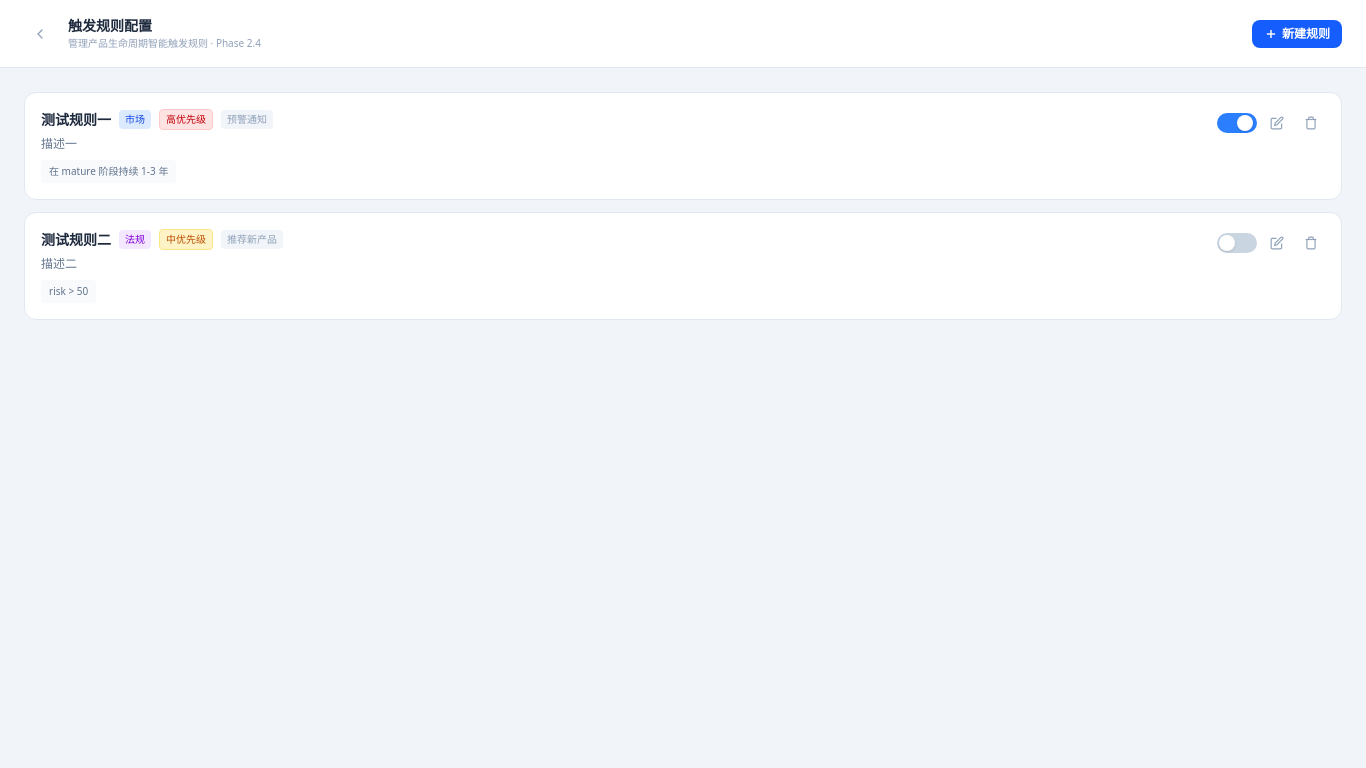
Test case: RuleConfigPanel › shows delete confirmation
Expected: the heading "测试规则一" is shown, [41, 110, 111, 130]
Click the button titled "删除规则" in the row of "预警通知" at coordinates (1311, 123), box [1297, 109, 1325, 137]
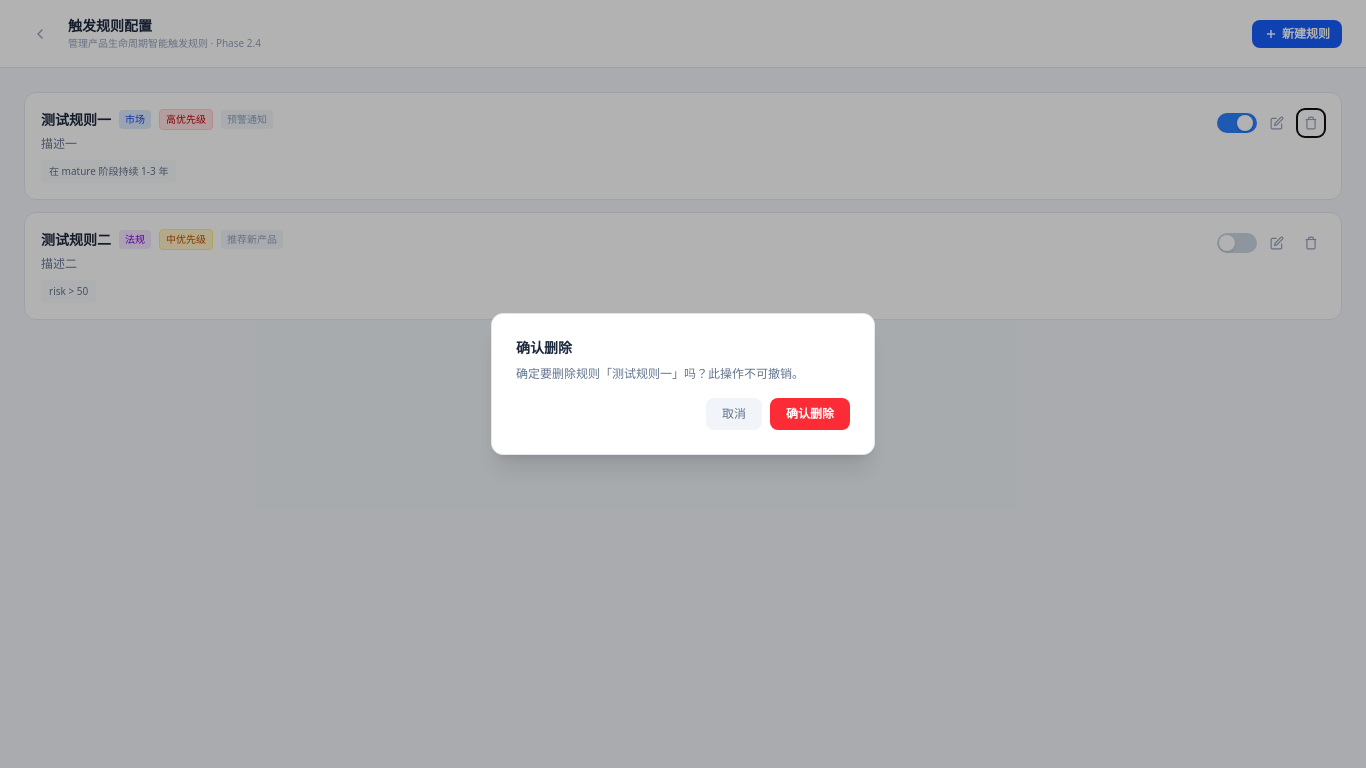
Result: the text "确定要删除规则「测试规则一」吗？此操作不可撤销。" is shown at [516, 366, 850, 382]
